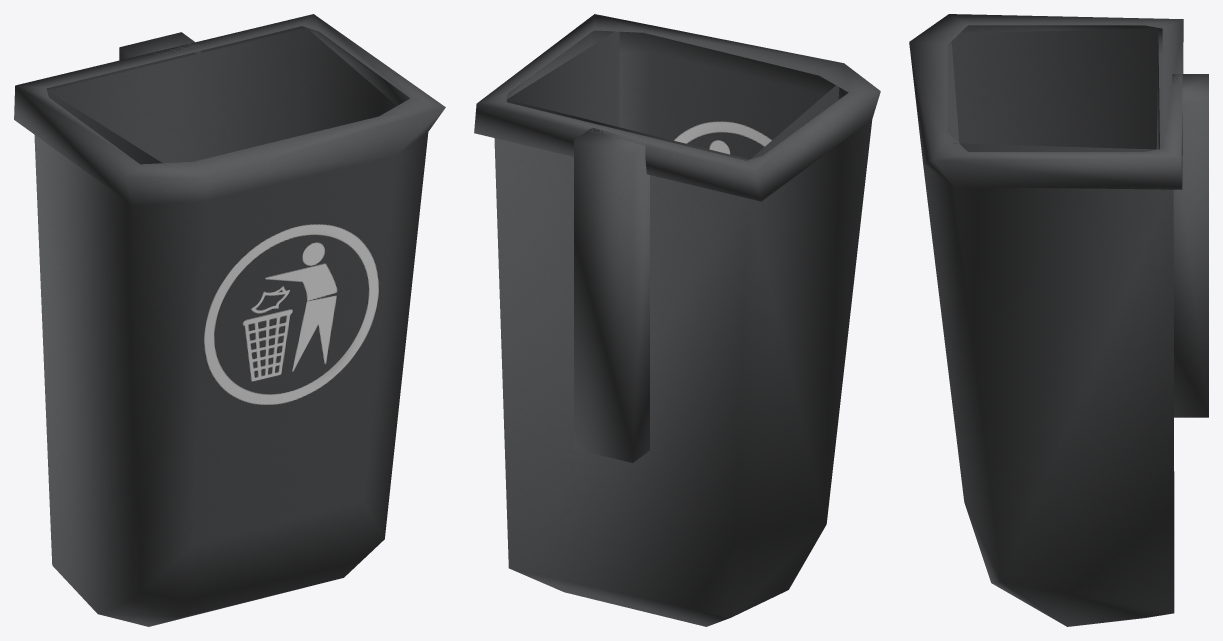
File: lowpolytrashbin.fbx
3 views of the same model, side by side, from view 1: azimuth 30°, elevation 25°; view 2: azimuth 150°, elevation 25°; view 3: azimuth 270°, elevation 25° (orthographic). The views are drawn at different scales.
Visible parts, largest first — view 1: WASTEBIN_TYPE23_L9_001.002; view 2: WASTEBIN_TYPE23_L9_001.002; view 3: WASTEBIN_TYPE23_L9_001.002.
Boxes of the visible parts, x1,y1,x2,y2 form: WASTEBIN_TYPE23_L9_001.002: [14, 14, 445, 626]; WASTEBIN_TYPE23_L9_001.002: [474, 14, 880, 626]; WASTEBIN_TYPE23_L9_001.002: [909, 14, 1208, 626].
Size of the model in its own units: 42.49 by 66.98 by 36.8.
